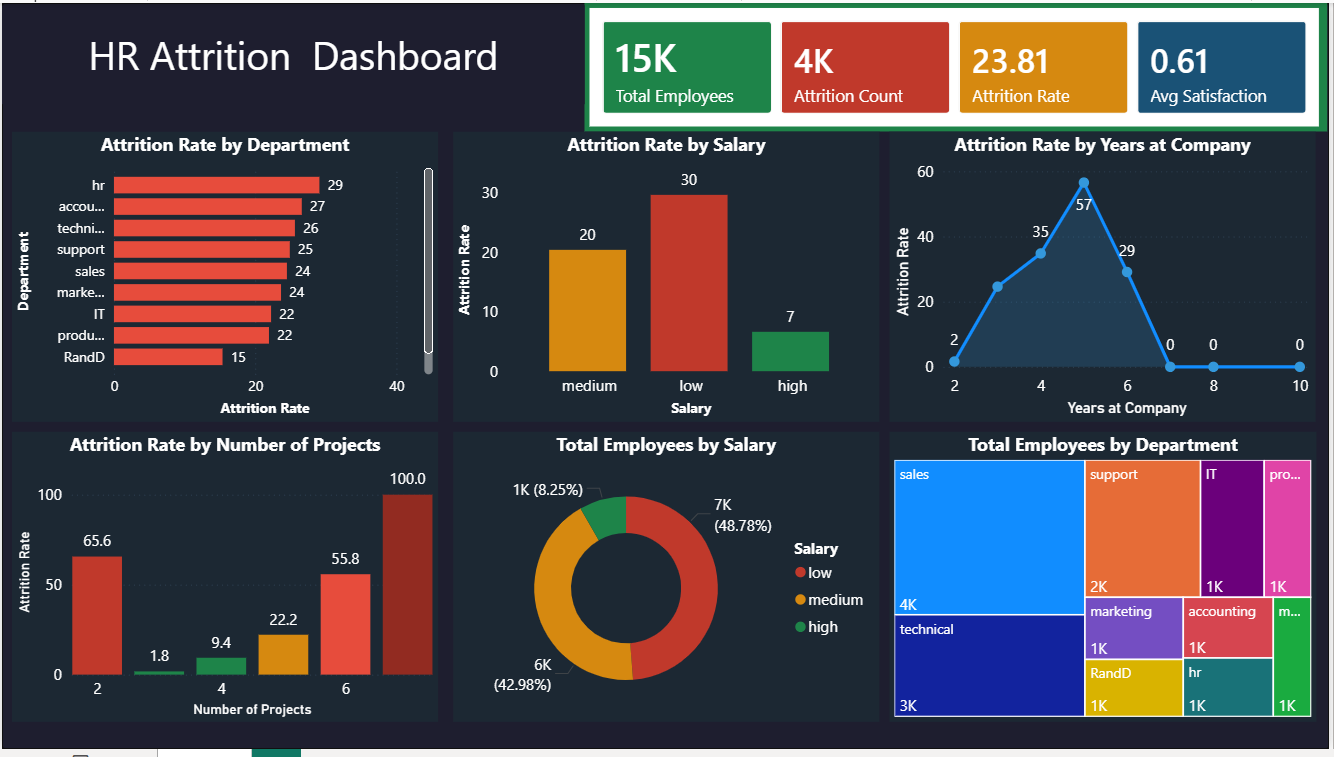

What the dashboard file says about the page in this screenshot:
{"tool":"powerbi","page":{"name":"Page 1","canvas":[1280,720],"ordinal":0},"visuals":[{"type":"cardVisual","fields":{"Data":["HR_comma_sep.Total Employees","HR_comma_sep.Attrition Count","HR_comma_sep.Attrition Rate","HR_comma_sep.Avg Satisfaction"]},"box":[562.7,0,717.1,124.1],"z":0},{"type":"textbox","box":[0,2.9,562.7,95.2],"z":1000},{"type":"clusteredBarChart","fields":{"Category":["HR_comma_sep.Department"],"Y":["HR_comma_sep.Attrition Rate"]},"box":[10.1,124.1,411.2,279.9],"z":1001},{"type":"clusteredColumnChart","fields":{"Category":["HR_comma_sep.Salary"],"Y":["HR_comma_sep.Attrition Rate"]},"box":[435.7,124.1,411.2,279.9],"z":1002},{"type":"lineChart","fields":{"Category":["HR_comma_sep.Years at Company"],"Y":["HR_comma_sep.Attrition Rate"]},"box":[857,124.1,411.2,279.9],"z":1003},{"type":"clusteredColumnChart","fields":{"Category":["HR_comma_sep.Number of Projects"],"Y":["HR_comma_sep.Attrition Rate"]},"box":[10,414,411,280],"z":1004},{"type":"donutChart","fields":{"Category":["HR_comma_sep.Salary"],"Y":["HR_comma_sep.Total Employees"]},"box":[436,414,411,280],"z":1005},{"type":"treemap","fields":{"Group":["HR_comma_sep.Department"],"Values":["HR_comma_sep.Total Employees"]},"box":[857,414,412,280],"z":1006}]}

Visuals, with their boxes in screenshot pixels (x1, y1, x2, y2), scaled from the page's 1280x720 canvas onto the 1334x757 screenshot:
cardVisual - HR_comma_sep.Total Employees x HR_comma_sep.Attrition Count: bbox(586, 0, 1333, 130)
textbox: bbox(0, 3, 586, 103)
clusteredBarChart - HR_comma_sep.Department x HR_comma_sep.Attrition Rate: bbox(11, 130, 439, 425)
clusteredColumnChart - HR_comma_sep.Salary x HR_comma_sep.Attrition Rate: bbox(454, 130, 883, 425)
lineChart - HR_comma_sep.Years at Company x HR_comma_sep.Attrition Rate: bbox(893, 130, 1322, 425)
clusteredColumnChart - HR_comma_sep.Number of Projects x HR_comma_sep.Attrition Rate: bbox(10, 435, 439, 730)
donutChart - HR_comma_sep.Salary x HR_comma_sep.Total Employees: bbox(454, 435, 883, 730)
treemap - HR_comma_sep.Department x HR_comma_sep.Total Employees: bbox(893, 435, 1323, 730)
